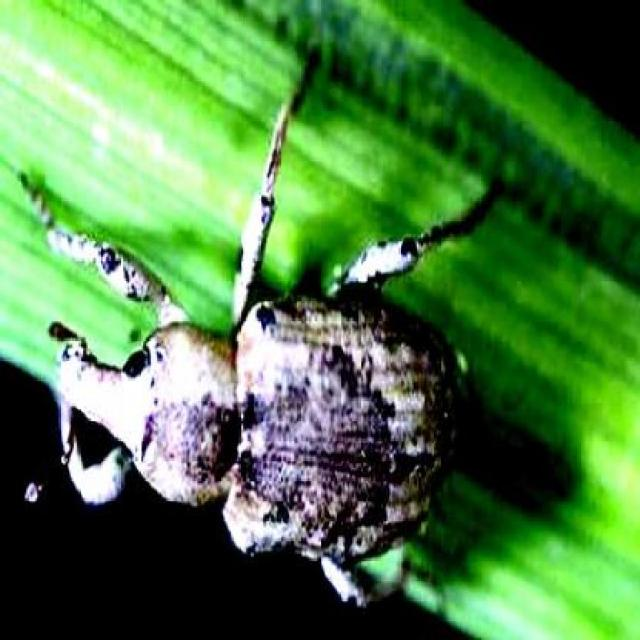rice-bug: (54, 94, 503, 569)
